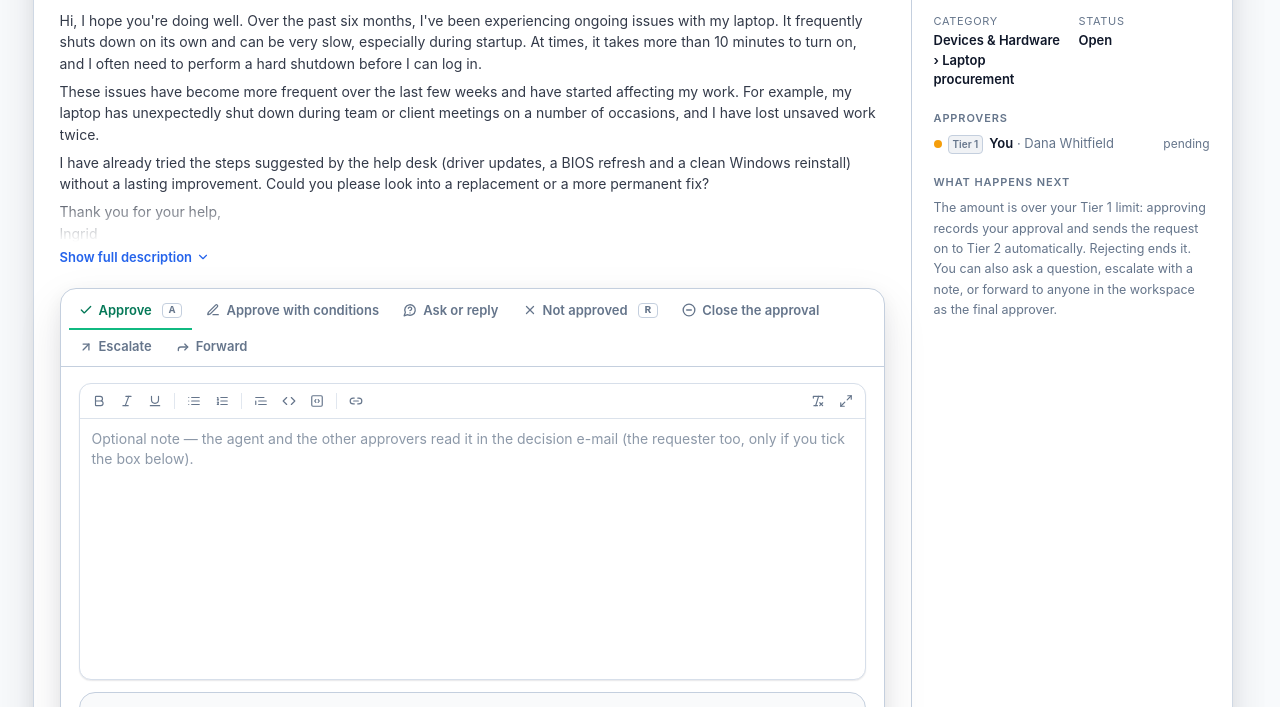
Test: PublicApprovalDecision (approval redesign) › tiered: escalate needs a note, confirms, posts the hand-off and shows the handed-off banner
(page scrolled)
Click the tab "Escalate" at (115, 348), box [68,329,162,366]
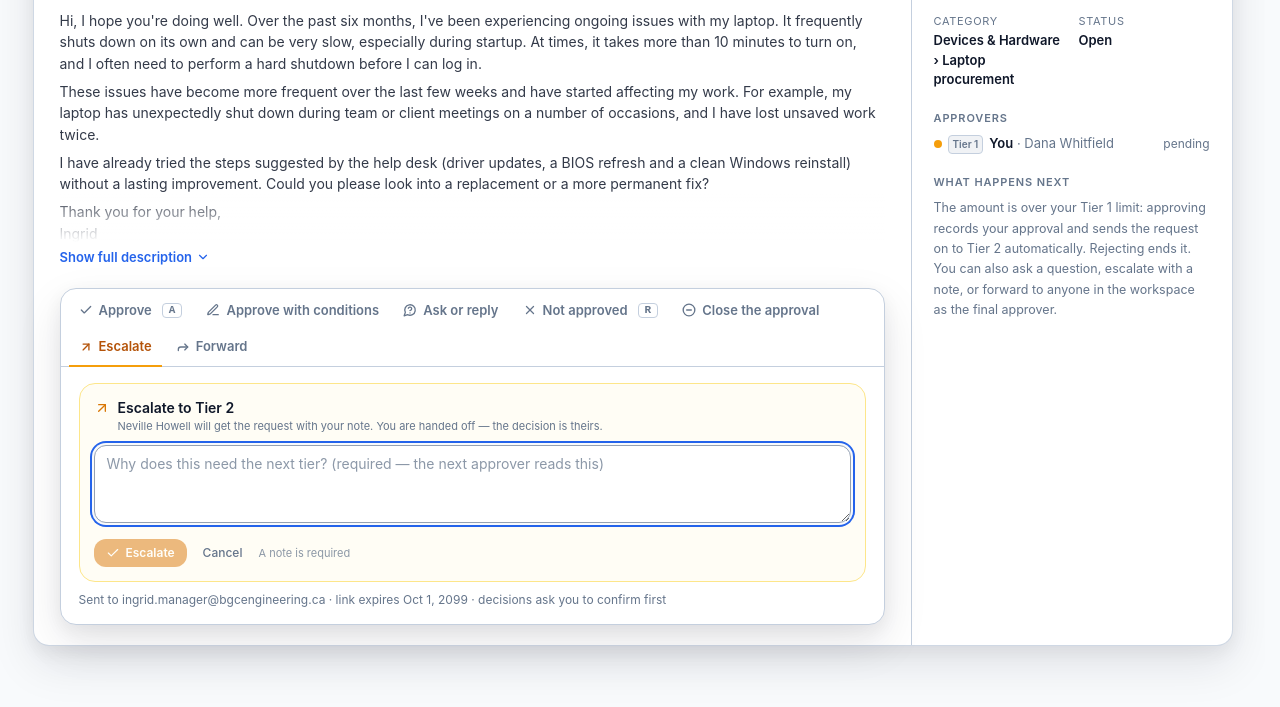
Expected: the button "Escalate" is disabled, [94,539,187,567]
Replace the text in the text box named "Escalate note" with "Needs CISO sign-off" at (472, 484), box [94,445,850,523]
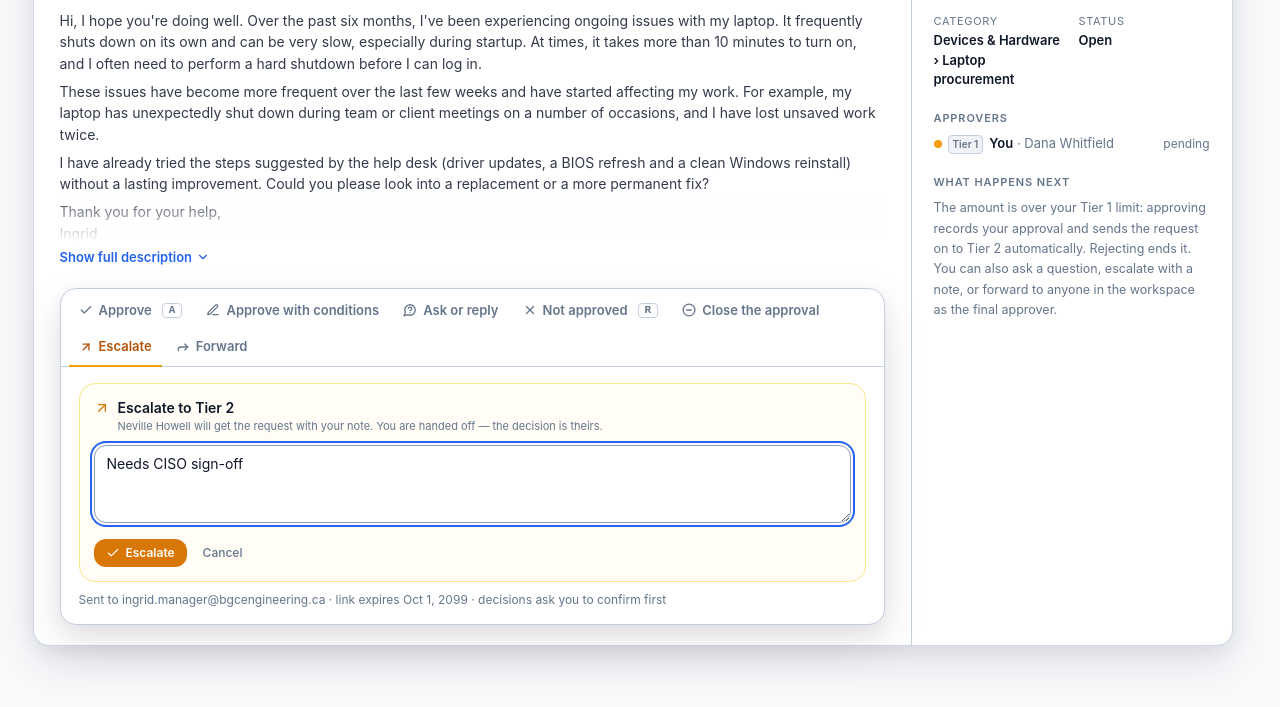
Click the button "Escalate" at (140, 553), box [94,539,187,567]
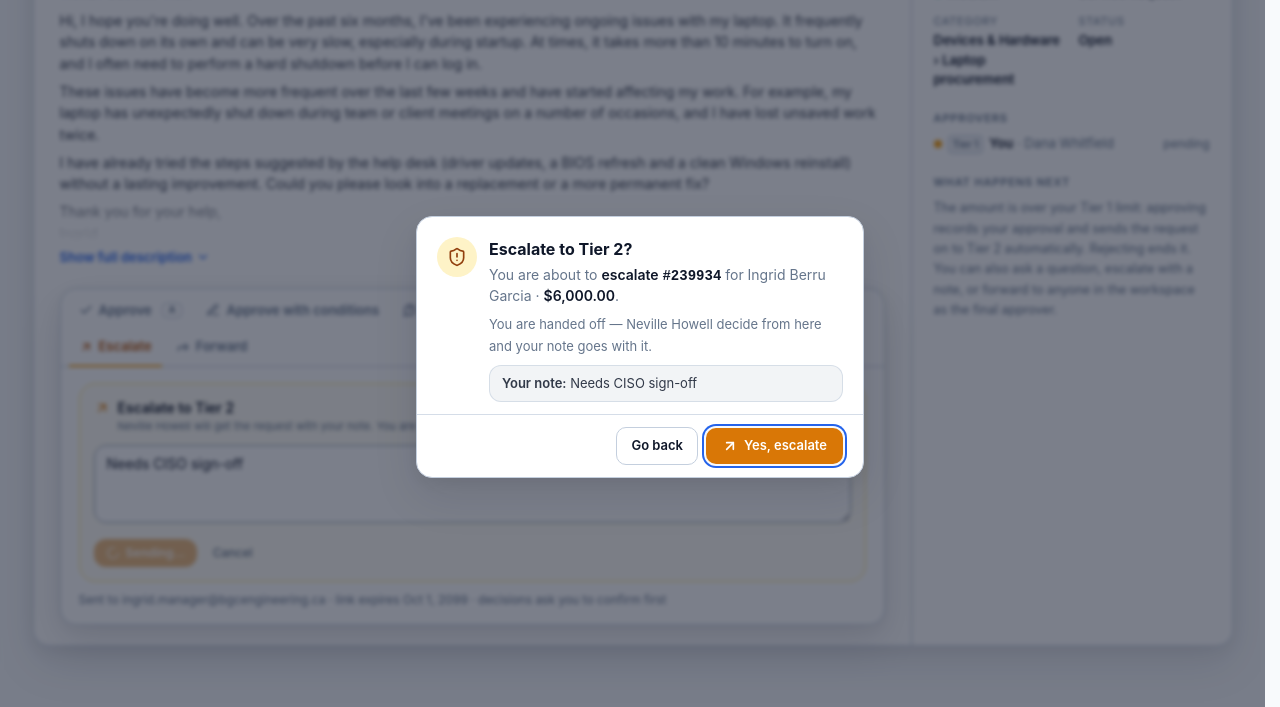
Expected: the dialog shows "Escalate to Tier 2?", [489,239,632,259]
Click the button "Yes, escalate" at (774, 446), box [706,428,843,464]
(page scrolled)
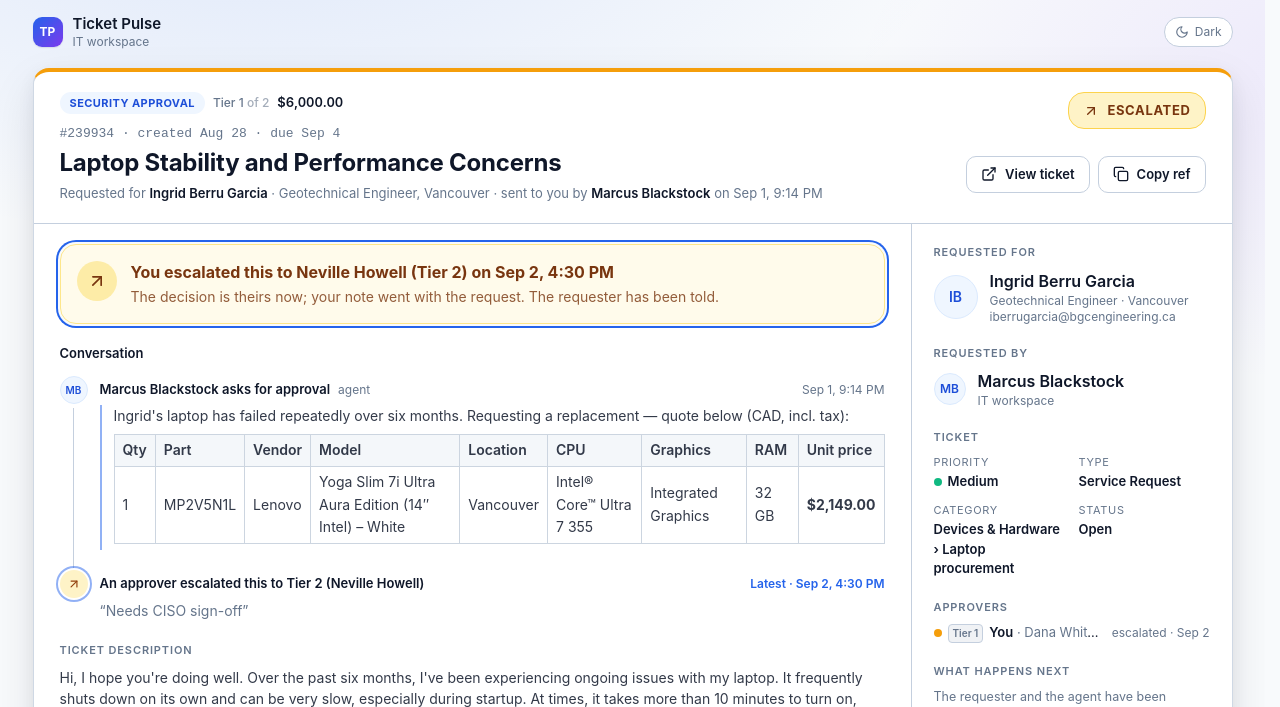
Expected: the text "You escalated this to Neville Howell (Tier 2) on Sep 2" is shown, [130,262,614,282]
Expected: the element with test id "approval-composer" is gone
